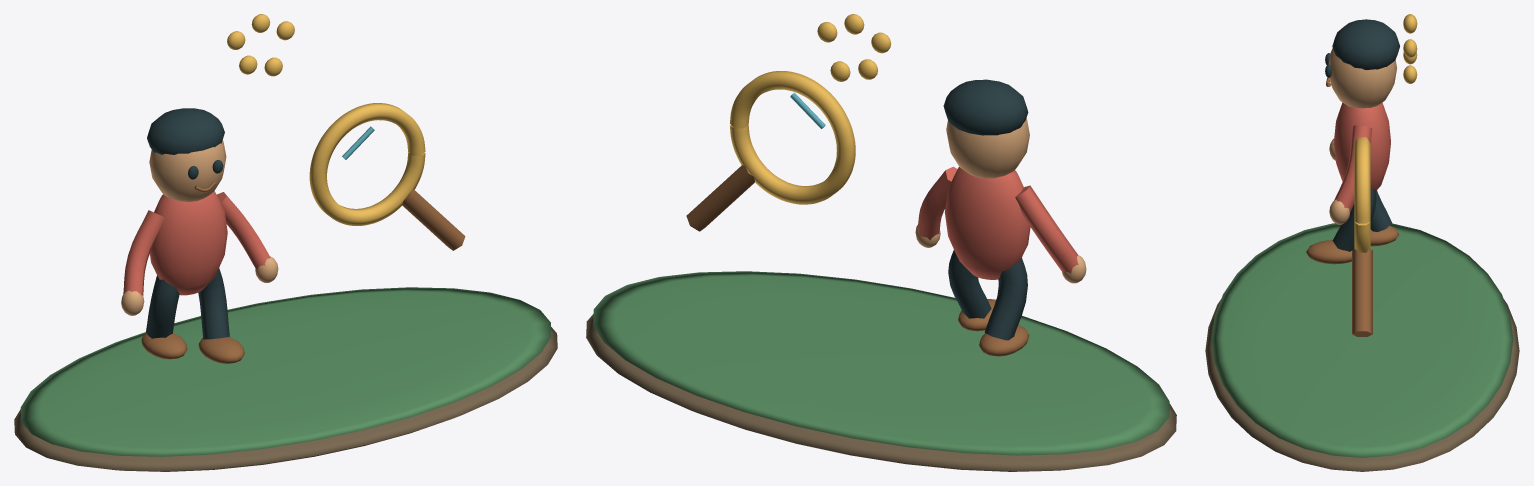
The model's file is complete-third-child-fine-detail.glb.
The picture shows the model from 3 angles, left to right: view 1: azimuth 30°, elevation 25°; view 2: azimuth 150°, elevation 25°; view 3: azimuth 270°, elevation 25°; orthographic projection. The views are drawn at different scales.
Visible parts, largest first — view 1: complete-third-child-fine-detail_surface_01, complete-third-child-fine-detail_surface_00, complete-third-child-fine-detail_surface_05, complete-third-child-fine-detail_surface_06, complete-third-child-fine-detail_surface_03, complete-third-child-fine-detail_surface_02, complete-third-child-fine-detail_surface_04; view 2: complete-third-child-fine-detail_surface_01, complete-third-child-fine-detail_surface_00, complete-third-child-fine-detail_surface_05, complete-third-child-fine-detail_surface_06, complete-third-child-fine-detail_surface_03, complete-third-child-fine-detail_surface_02, complete-third-child-fine-detail_surface_04; view 3: complete-third-child-fine-detail_surface_01, complete-third-child-fine-detail_surface_00, complete-third-child-fine-detail_surface_03, complete-third-child-fine-detail_surface_05, complete-third-child-fine-detail_surface_04, complete-third-child-fine-detail_surface_02, complete-third-child-fine-detail_surface_06.
Part boxes in pixels (box(x1,y1,x2,y2)): complete-third-child-fine-detail_surface_01: box(20, 287, 551, 456); complete-third-child-fine-detail_surface_00: box(14, 327, 557, 471); complete-third-child-fine-detail_surface_05: box(123, 191, 270, 295); complete-third-child-fine-detail_surface_06: box(227, 14, 425, 225); complete-third-child-fine-detail_surface_03: box(146, 108, 229, 339); complete-third-child-fine-detail_surface_02: box(121, 140, 278, 315); complete-third-child-fine-detail_surface_04: box(141, 181, 465, 363); complete-third-child-fine-detail_surface_01: box(593, 271, 1169, 455); complete-third-child-fine-detail_surface_00: box(586, 314, 1176, 471); complete-third-child-fine-detail_surface_05: box(918, 166, 1078, 279); complete-third-child-fine-detail_surface_06: box(730, 14, 891, 204); complete-third-child-fine-detail_surface_03: box(943, 79, 1028, 340); complete-third-child-fine-detail_surface_02: box(915, 118, 1086, 283); complete-third-child-fine-detail_surface_04: box(686, 165, 1029, 356); complete-third-child-fine-detail_surface_01: box(1211, 223, 1513, 457); complete-third-child-fine-detail_surface_00: box(1205, 299, 1519, 471); complete-third-child-fine-detail_surface_03: box(1325, 19, 1399, 251); complete-third-child-fine-detail_surface_05: box(1333, 102, 1390, 212); complete-third-child-fine-detail_surface_04: box(1306, 77, 1399, 336); complete-third-child-fine-detail_surface_02: box(1328, 48, 1396, 224); complete-third-child-fine-detail_surface_06: box(1354, 14, 1417, 252).
Size of the model in its own units: 4.56 by 3.07 by 2.5.
